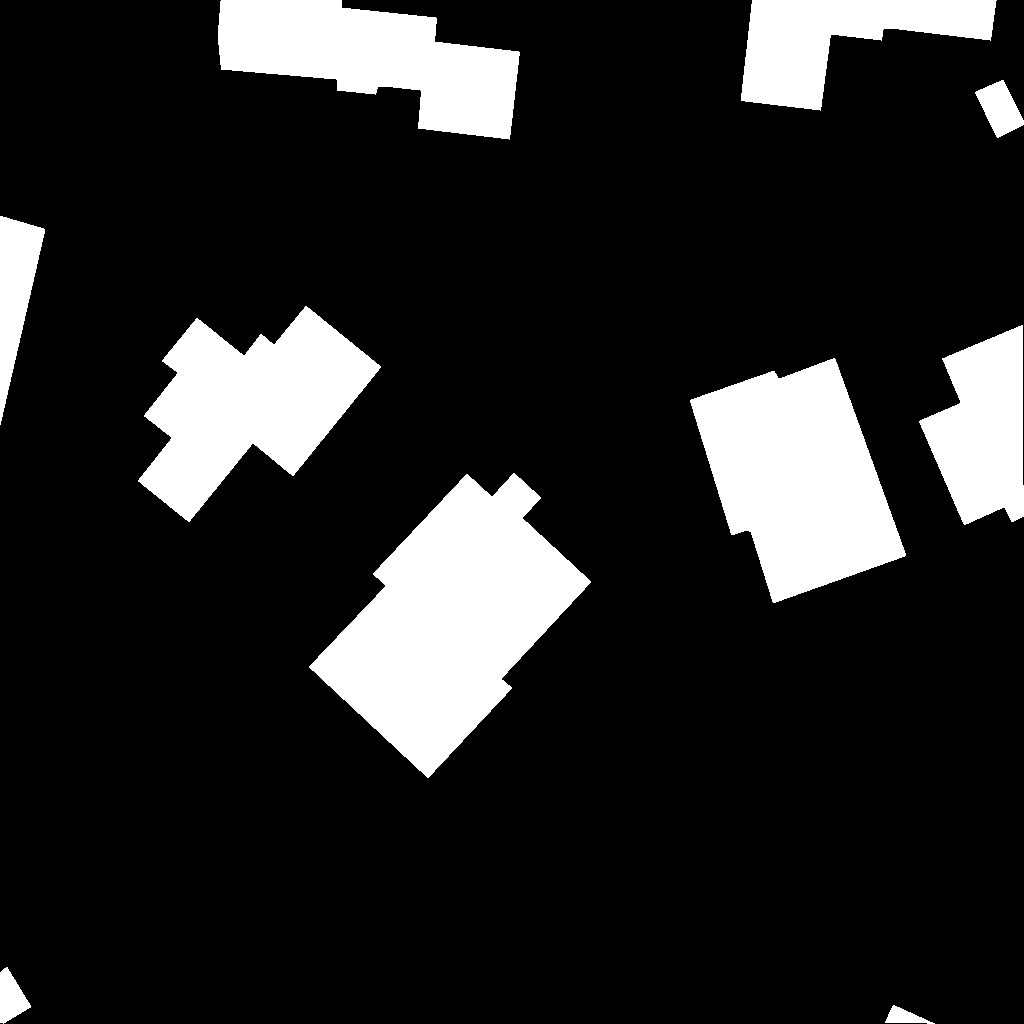building: (309, 473, 592, 779), (690, 358, 907, 604), (138, 306, 382, 523), (218, 0, 521, 140), (741, 0, 997, 111), (919, 325, 1024, 526), (0, 216, 46, 428), (975, 80, 1024, 139), (0, 967, 32, 1024), (885, 1005, 936, 1024)
